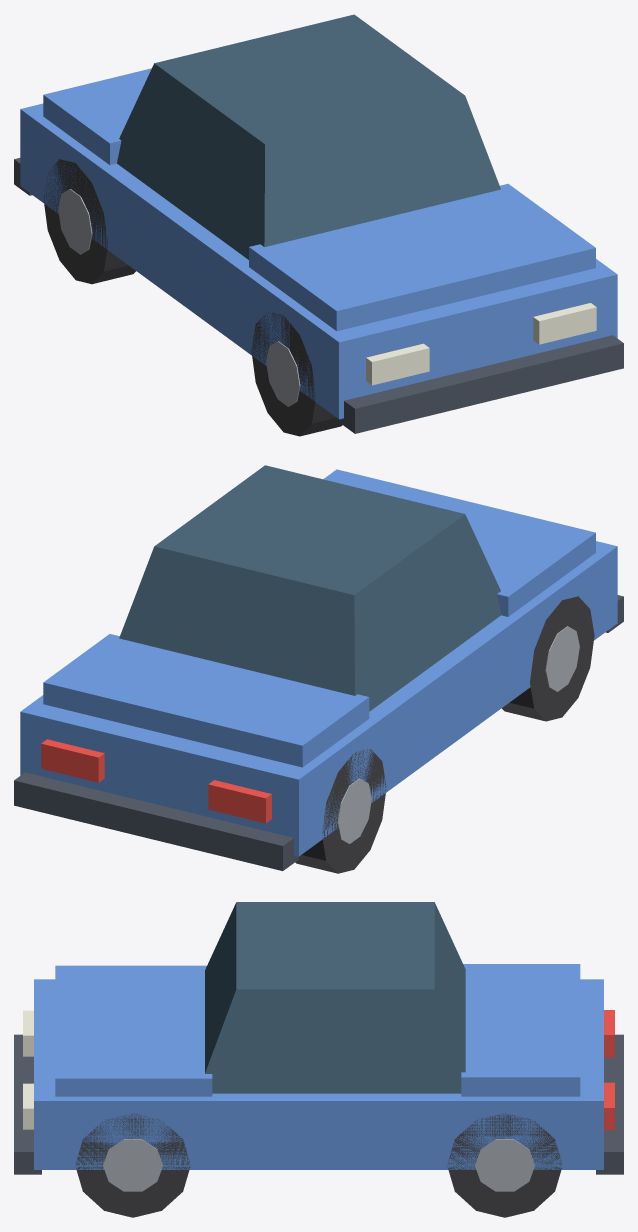
Rendered from traffic_sedan_blue.glb.
3 renders of one model, top to bottom at view 1: azimuth 30°, elevation 25°; view 2: azimuth 150°, elevation 25°; view 3: azimuth 270°, elevation 25°, orthographic. The views are drawn at different scales.
Visible parts, largest first — view 1: cabin, lower_body, hood, front_bumper, trunk, wheel_L_rear_tire, wheel_L_front_tire, headlight_+0.52, headlight_-0.52, wheel_L_rear_rim, wheel_L_front_rim; view 2: cabin, lower_body, trunk, rear_bumper, hood, wheel_L_front_tire, wheel_L_rear_tire, taillight_-0.52, taillight_+0.52, wheel_L_front_rim, wheel_L_rear_rim; view 3: cabin, lower_body, hood, trunk, wheel_R_rear_tire, wheel_R_front_tire, wheel_R_rear_rim, wheel_R_front_rim, front_bumper, rear_bumper, taillight_+0.52, taillight_-0.52 (+2 smaller).
Boxes of the visible parts, x1=… form: cabin: x1=117, y1=14, x2=500, y2=259; lower_body: x1=20, y1=103, x2=617, y2=419; hood: x1=249, y1=183, x2=595, y2=330; front_bumper: x1=339, y1=335, x2=623, y2=433; trunk: x1=43, y1=68, x2=151, y2=164; wheel_L_rear_tire: x1=43, y1=159, x2=135, y2=284; wheel_L_front_tire: x1=251, y1=312, x2=342, y2=436; headlight_+0.52: x1=533, y1=303, x2=596, y2=344; headlight_-0.52: x1=366, y1=343, x2=429, y2=385; wheel_L_rear_rim: x1=58, y1=189, x2=92, y2=254; wheel_L_front_rim: x1=266, y1=341, x2=300, y2=406; cabin: x1=119, y1=465, x2=500, y2=711; lower_body: x1=20, y1=541, x2=617, y2=856; trunk: x1=43, y1=634, x2=369, y2=767; rear_bumper: x1=14, y1=772, x2=298, y2=870; hood: x1=323, y1=469, x2=595, y2=616; wheel_L_front_tire: x1=502, y1=596, x2=594, y2=721; wheel_L_rear_tire: x1=295, y1=748, x2=386, y2=873; taillight_-0.52: x1=208, y1=780, x2=271, y2=823; taillight_+0.52: x1=41, y1=739, x2=104, y2=782; wheel_L_front_rim: x1=545, y1=626, x2=579, y2=691; wheel_L_rear_rim: x1=337, y1=778, x2=371, y2=843; cabin: x1=205, y1=902, x2=465, y2=1093; lower_body: x1=34, y1=979, x2=603, y2=1169; hood: x1=55, y1=965, x2=212, y2=1096; trunk: x1=461, y1=964, x2=580, y2=1096; wheel_R_rear_tire: x1=447, y1=1113, x2=561, y2=1217; wheel_R_front_tire: x1=76, y1=1113, x2=190, y2=1217; wheel_R_rear_rim: x1=475, y1=1139, x2=534, y2=1191; wheel_R_front_rim: x1=103, y1=1139, x2=162, y2=1191; front_bumper: x1=14, y1=1034, x2=41, y2=1174; rear_bumper: x1=596, y1=1034, x2=623, y2=1174; taillight_+0.52: x1=604, y1=1082, x2=614, y2=1130; taillight_-0.52: x1=604, y1=1010, x2=614, y2=1057.
Size of the model in its own units: 1.75 by 1.41 by 3.69.
